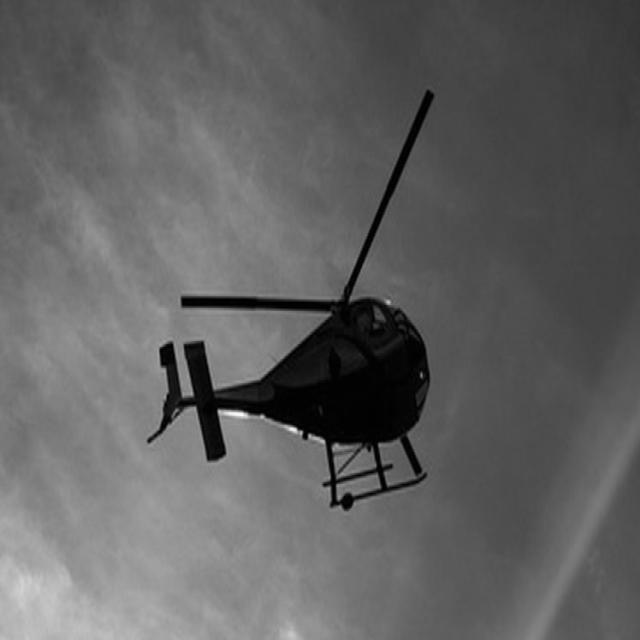helicopter: (148, 93, 446, 512)
